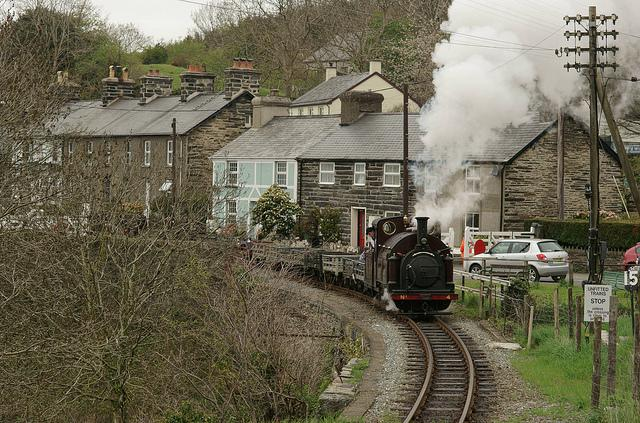Train: (253, 217, 458, 325)
